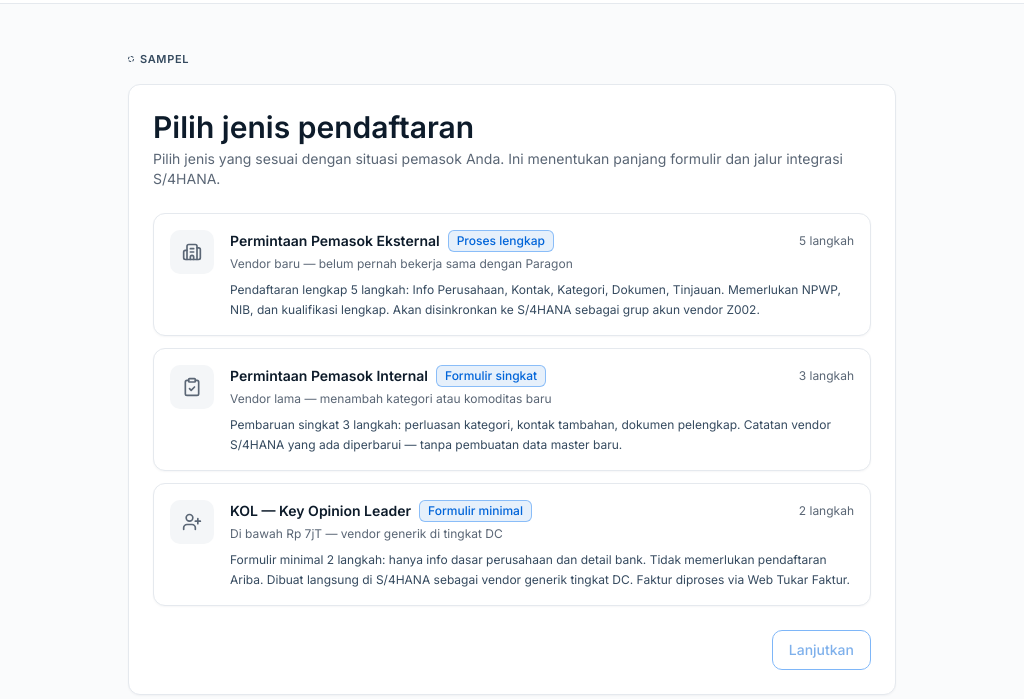
registration country · the select speaks both languages › ⚠️ the stored value stays canonical English while the label localizes
Click the text "Permintaan Pemasok Eksternal".
click(335, 241)  # box [230,231,440,251]
(page scrolled)
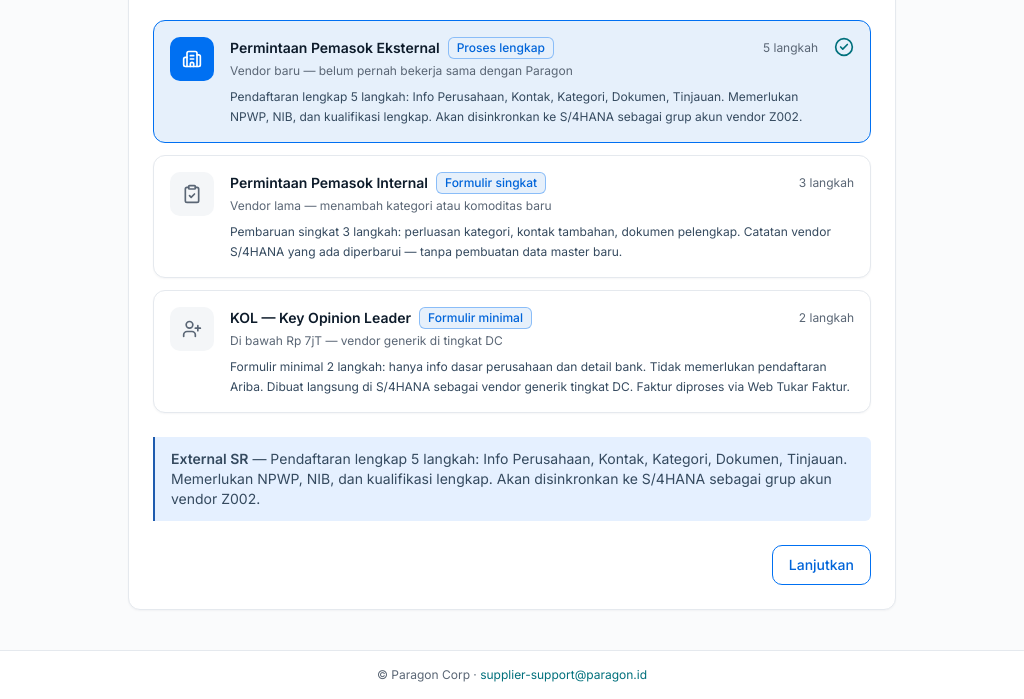
Click the button "Lanjutkan".
click(821, 565)  # box [772,545,871,585]
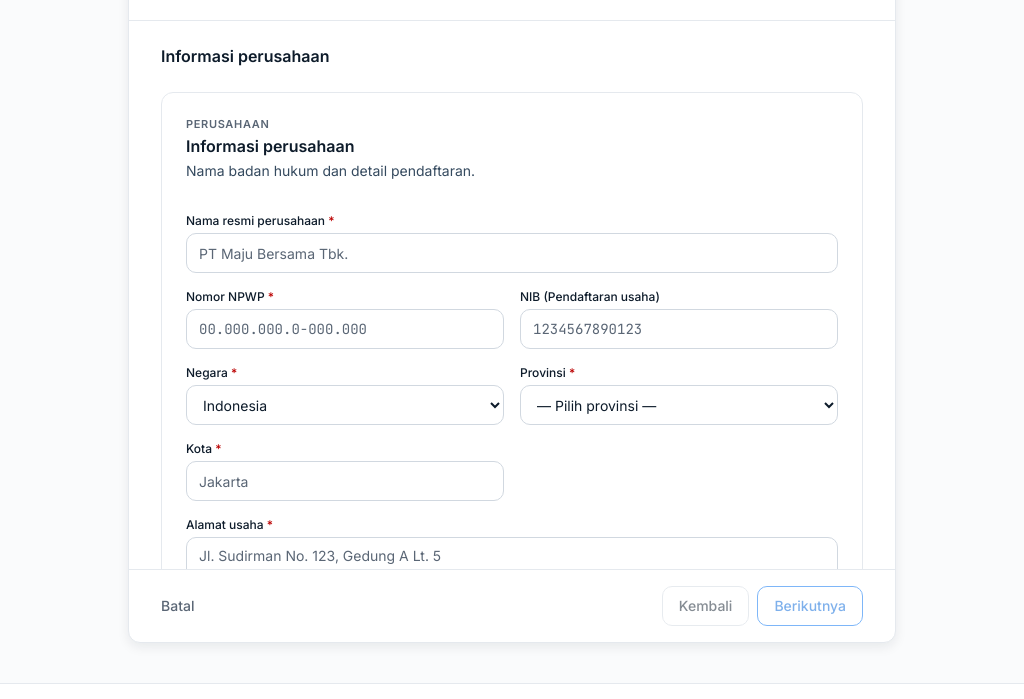
expect the text "Negara" is shown: met, box [186,366,228,380]
